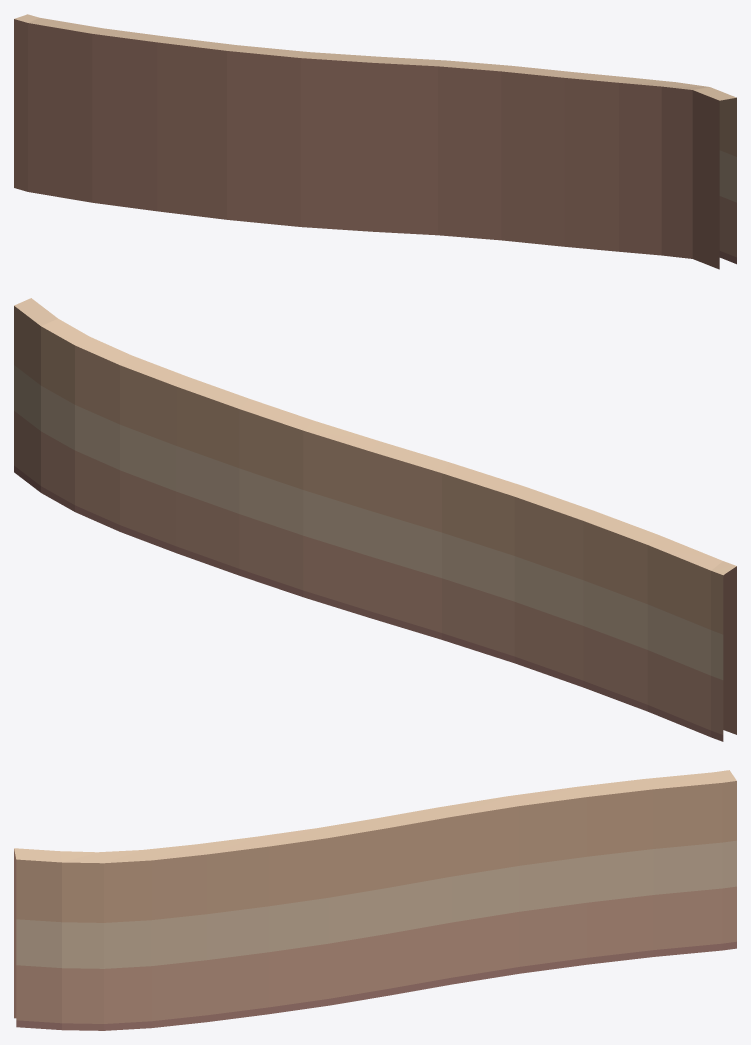
The model's file is pared_izquierda_2.glb.
The picture shows the model from 3 angles, top to bottom: view 1: azimuth 30°, elevation 25°; view 2: azimuth 210°, elevation 25°; view 3: azimuth 270°, elevation 25°; orthographic projection.
Parts seen in each view (by area): view 1: pared_izquierda_2; view 2: pared_izquierda_2; view 3: pared_izquierda_2.
Part boxes in pixels (x1=…): pared_izquierda_2: x1=14, y1=14, x2=736, y2=269; pared_izquierda_2: x1=14, y1=298, x2=736, y2=741; pared_izquierda_2: x1=14, y1=770, x2=736, y2=1030.
Bounding box in the file's own units: 16.89 × 11.48 × 28.53.
